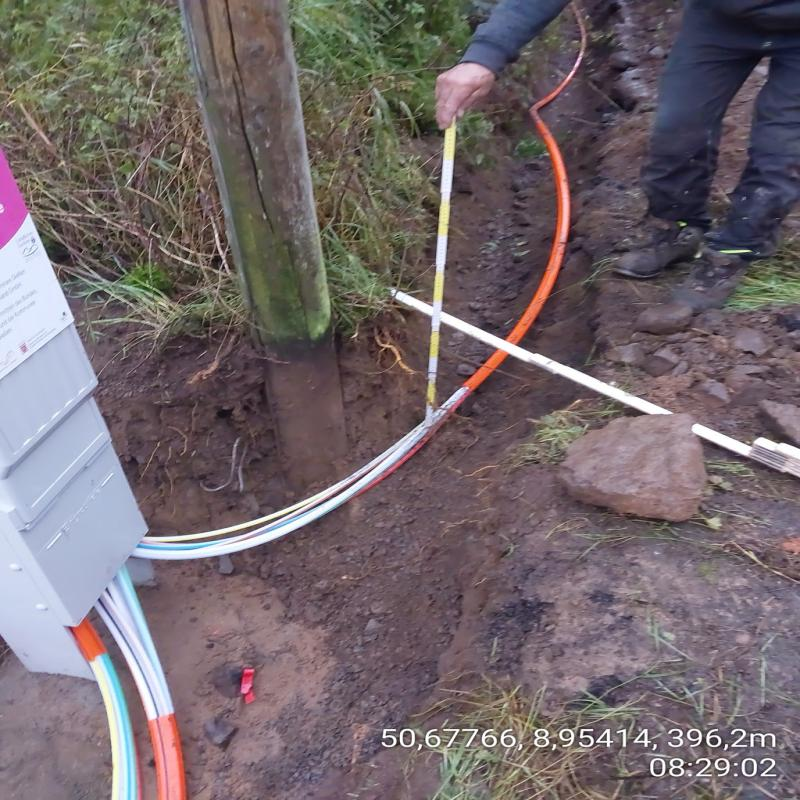NT-Gehause: (0, 325, 152, 679)
Orang-Speednetrohrchen: (262, 140, 573, 537), (86, 582, 186, 797)
Steaker: (3, 149, 76, 379)
